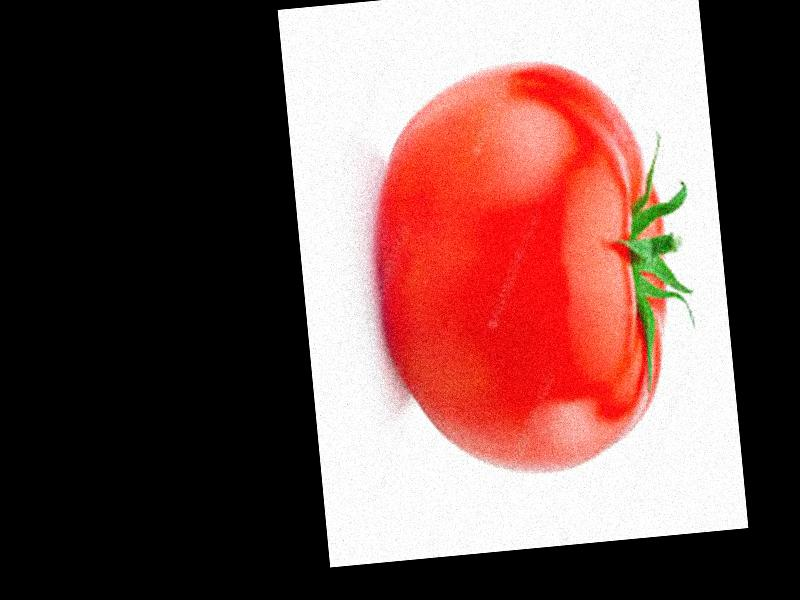Tomato: (368, 51, 684, 485)
